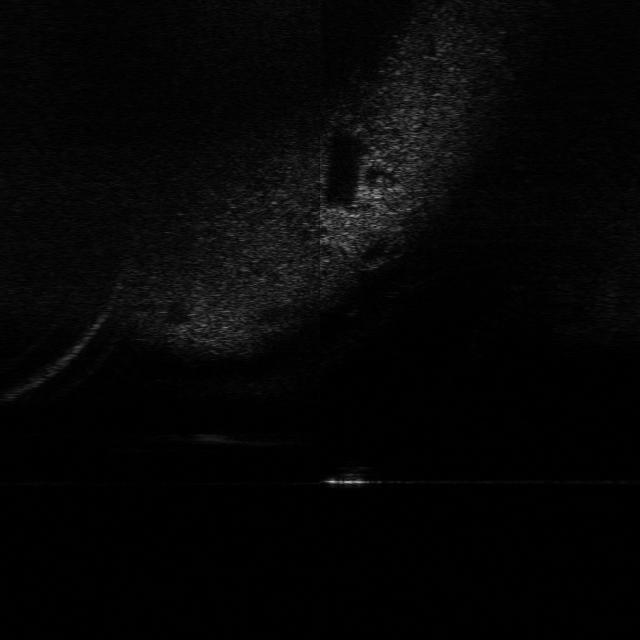cube: (318, 462, 377, 489)
